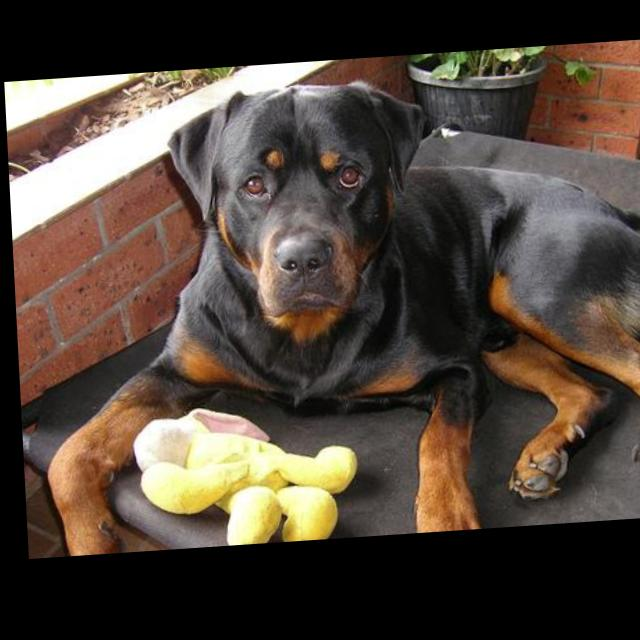rottweiler: (26, 69, 640, 558)
